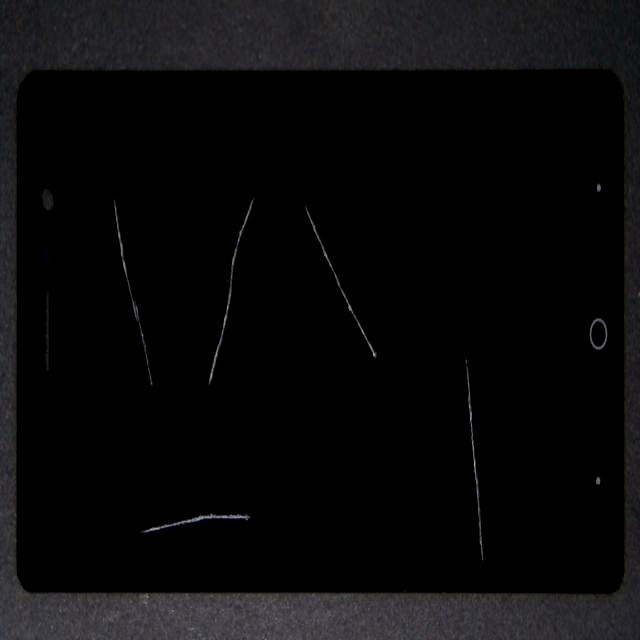scratch: (253, 402, 640, 640), (140, 21, 331, 410)
